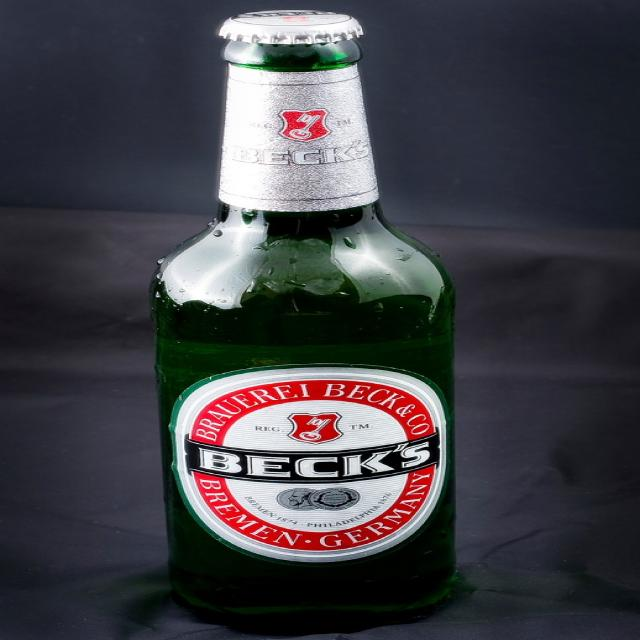becks: (173, 367, 451, 564)
